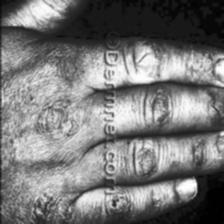Non-Cancerous Skin Condition: (29, 95, 85, 151), (24, 185, 80, 224), (104, 188, 134, 222)
